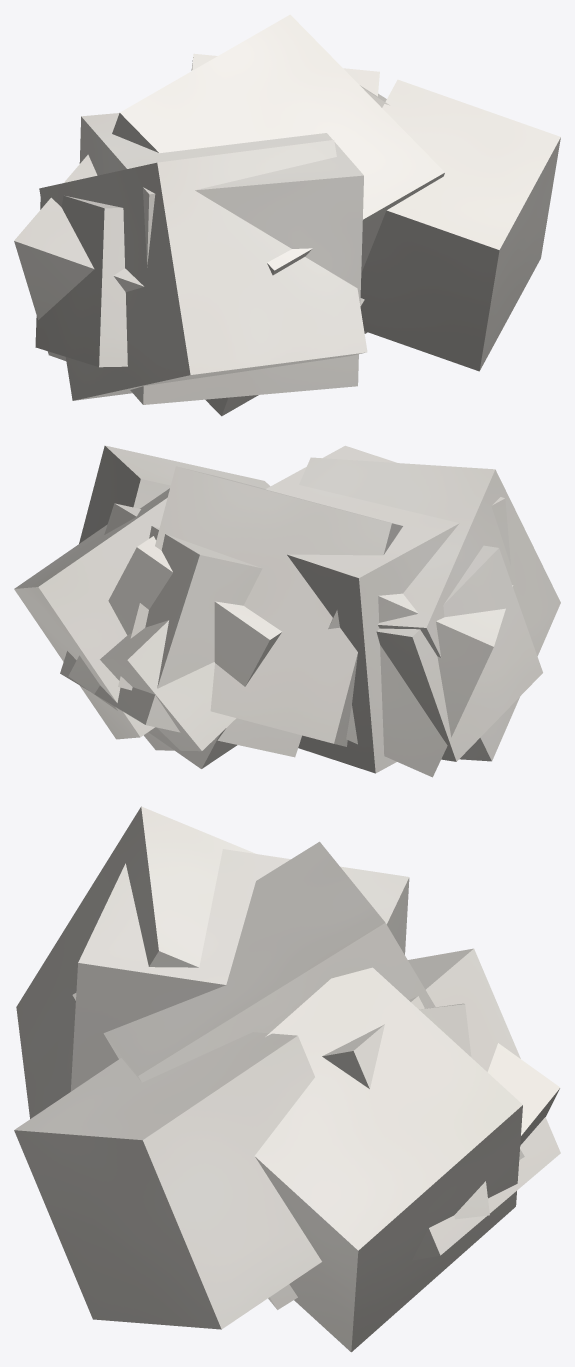
File: mineral_sal.fbx
3 renders of one model, top to bottom at view 1: azimuth 30°, elevation 25°; view 2: azimuth 150°, elevation 25°; view 3: azimuth 270°, elevation 25°, orthographic. The views are drawn at different scales.
Visible parts, largest first — view 1: mineral_sal_cristal; view 2: mineral_sal_cristal; view 3: mineral_sal_cristal.
Boxes of the visible parts, x1=… form: mineral_sal_cristal: x1=14, y1=14, x2=560, y2=416; mineral_sal_cristal: x1=14, y1=445, x2=560, y2=777; mineral_sal_cristal: x1=14, y1=806, x2=560, y2=1352.
Bounding box in the file's own units: 2.09 × 1.3 × 1.65.
1 material, 1 textured.
